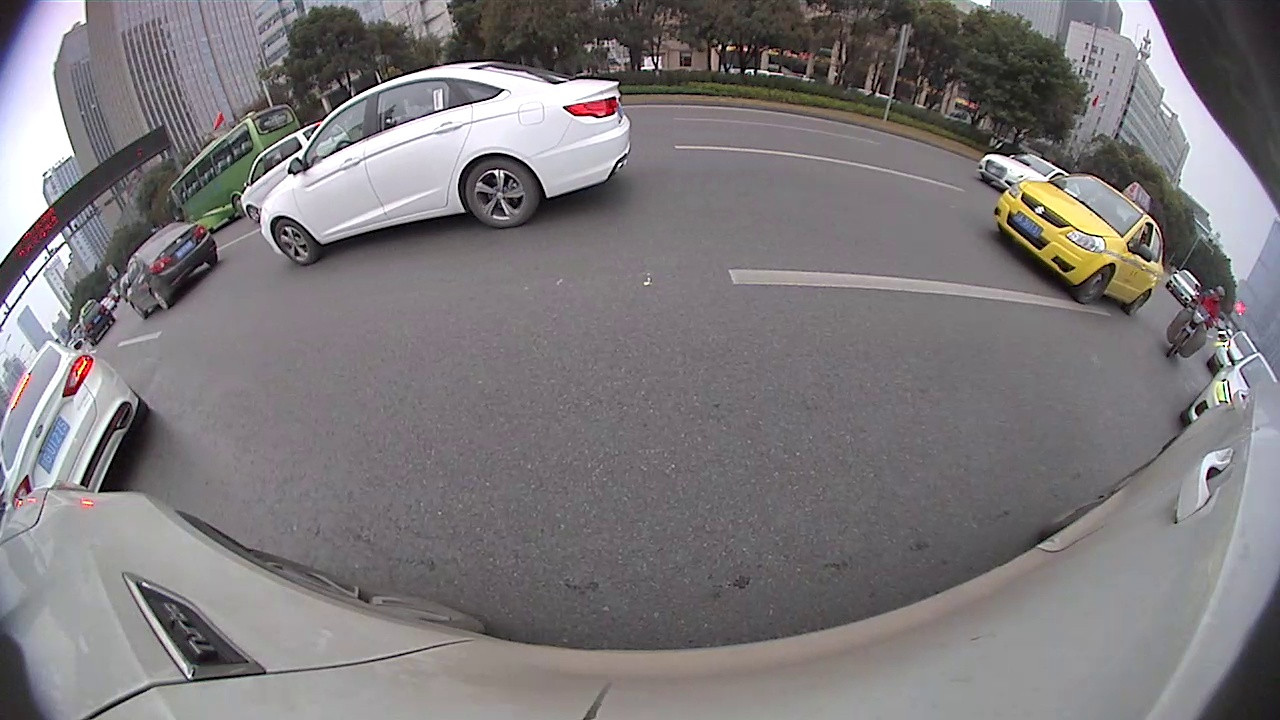bus: (170, 106, 300, 223)
car: (263, 64, 631, 265), (993, 178, 1165, 317), (1, 343, 148, 504), (237, 122, 327, 223), (124, 224, 218, 318), (1184, 353, 1278, 426), (976, 153, 1068, 191), (1211, 331, 1261, 374), (78, 298, 113, 339)
front: (273, 218, 317, 266), (1077, 268, 1112, 307), (246, 204, 259, 224)
rear: (464, 156, 541, 226), (1127, 288, 1149, 320), (152, 288, 170, 312)
rider: (1165, 283, 1228, 365)
